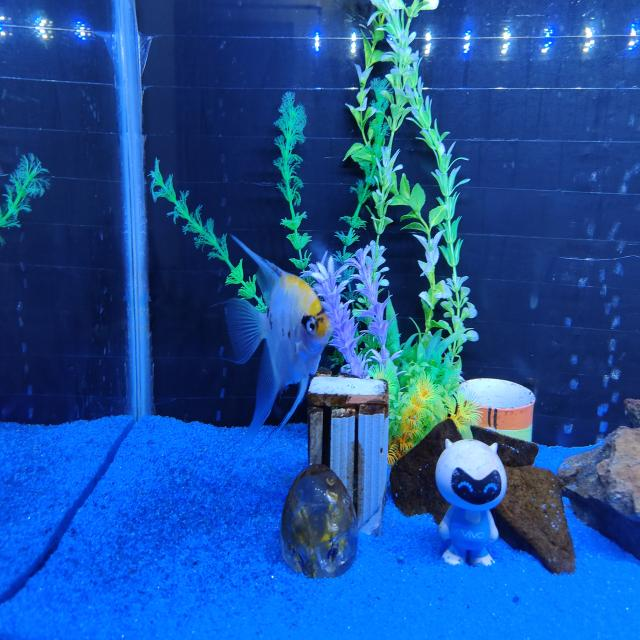Fish: (226, 236, 331, 459)
